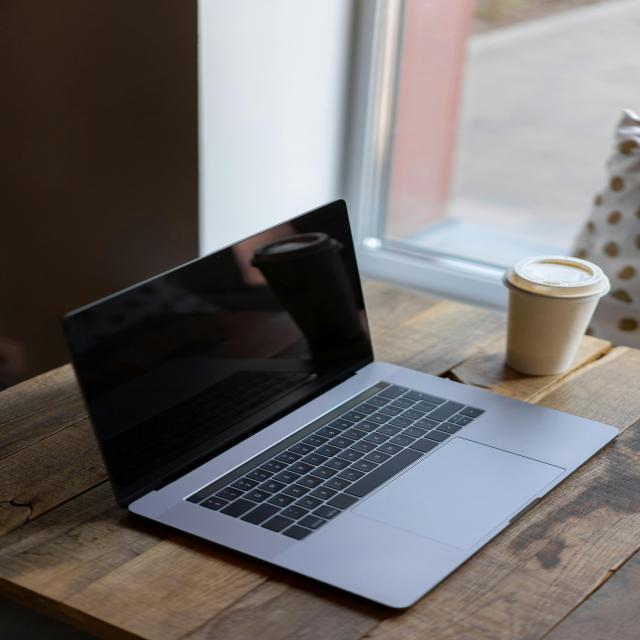cup: (501, 256, 611, 380)
